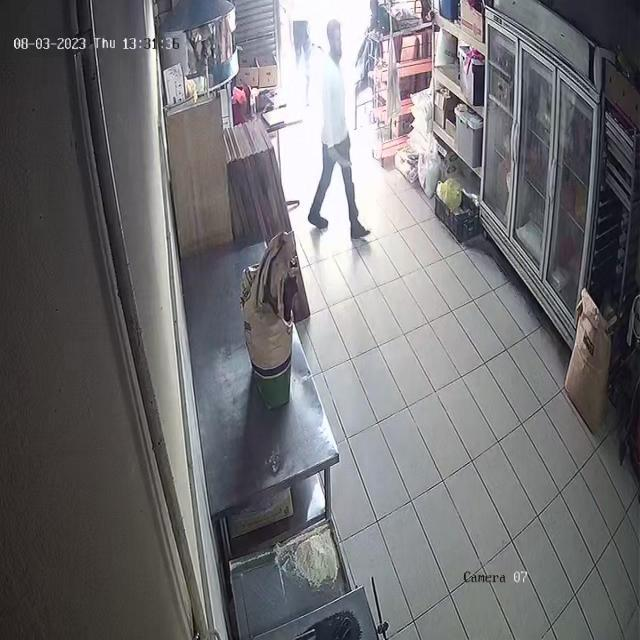Knife: (317, 144, 364, 174)
